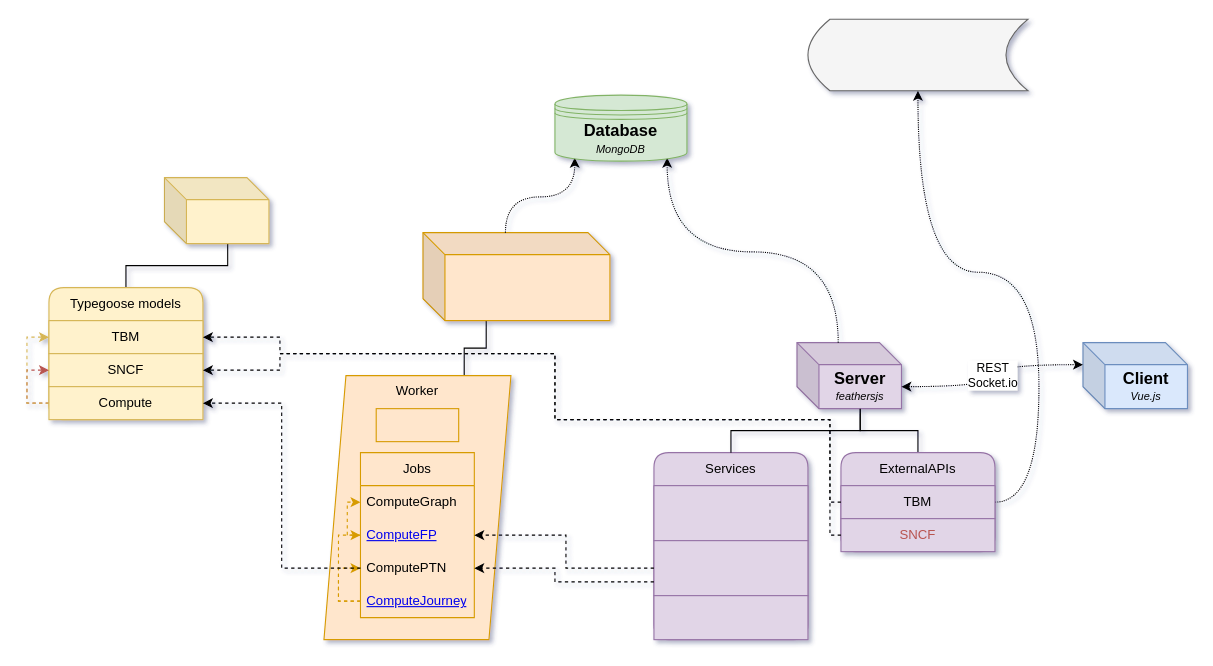
Image size: 1213x666. Some labels were removed from this diagram. Here are the shapes that lost their labels. From the top down, the centre of each, then its label:
point 917,54: Open Data Bordeaux Métropole API
point 216,210: Data Shared data
point 516,276: Compute AgendaTS Heavy | reptitive task scheduler
point 417,425: Base
point 730,513: Geocode Transform ID into coordinates + details
point 730,568: Itinerary - Foot path - PTN journey!
point 730,617: Refresh-data Actualize data
